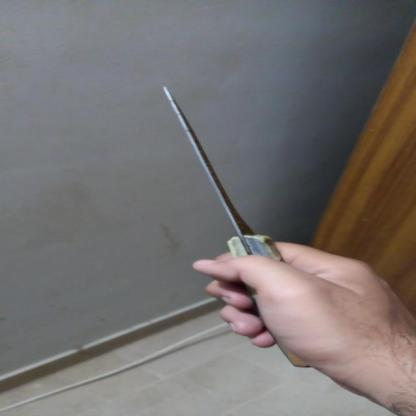Knife: (150, 67, 345, 296)
